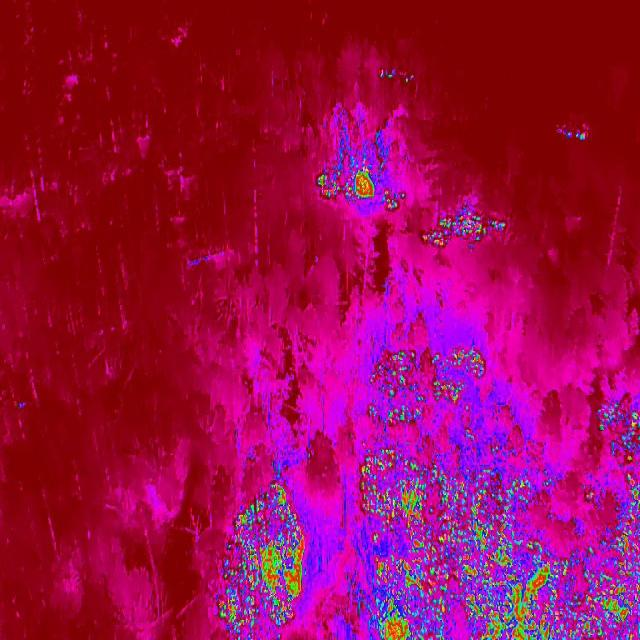fire: (353, 444, 568, 640), (216, 481, 309, 629), (366, 344, 492, 432), (573, 527, 640, 639), (312, 157, 410, 216), (420, 204, 511, 252), (598, 405, 640, 465), (617, 472, 640, 522), (377, 62, 417, 86), (554, 121, 590, 143), (582, 484, 598, 504)
